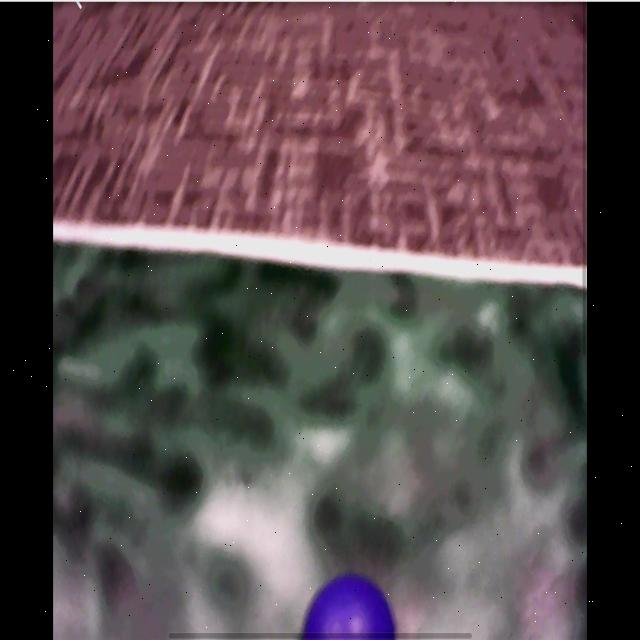ball: (303, 575, 396, 636)
